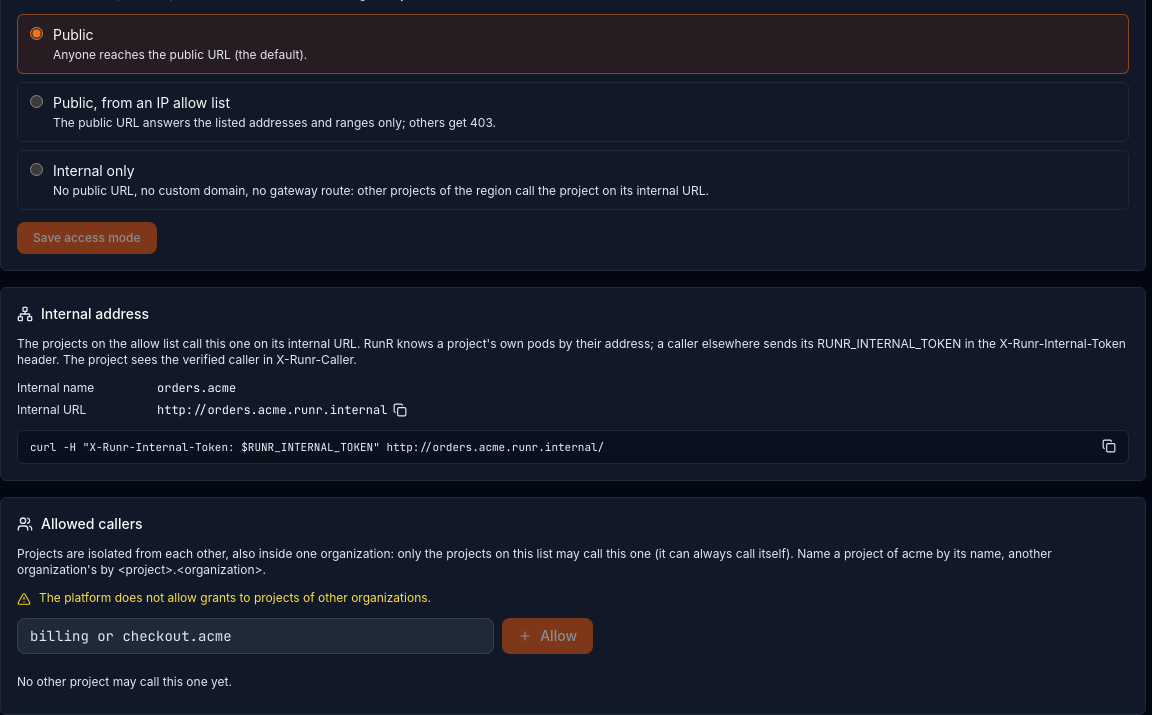
it: Project → Network › shows why a caller was refused
(page scrolled)
expect the element with test id "network-cross-off" is shown: met, box [17,590,431,606]
In the field with test id "network-caller-input": (256, 636) [17,618,494,654], type "billing.globex"
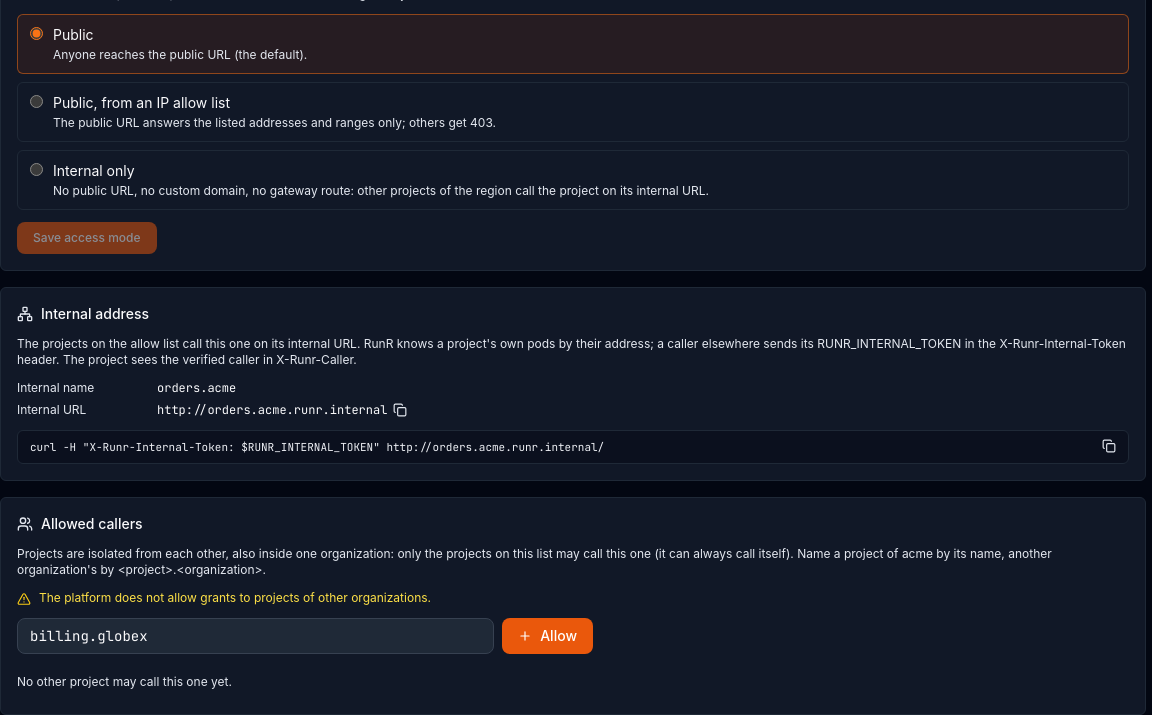
Submit the form, box [17,618,593,654]
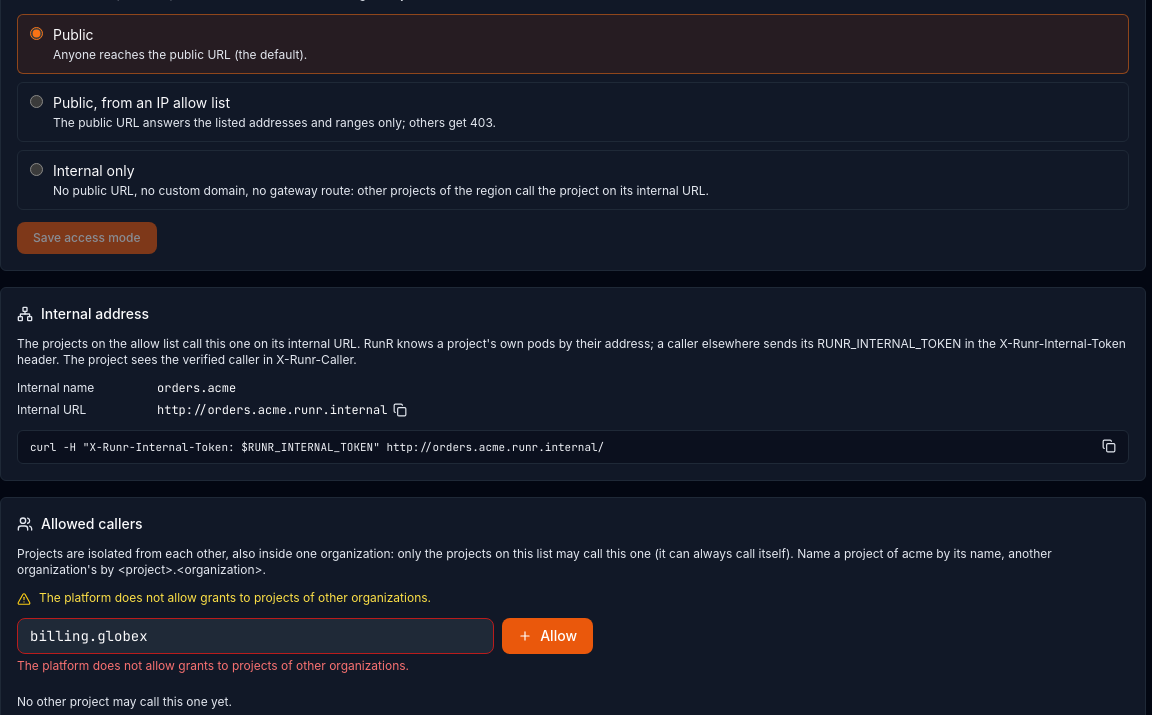
expect the text with test id "network-caller-error" shows "does not allow grants": met, box [17,658,409,673]
